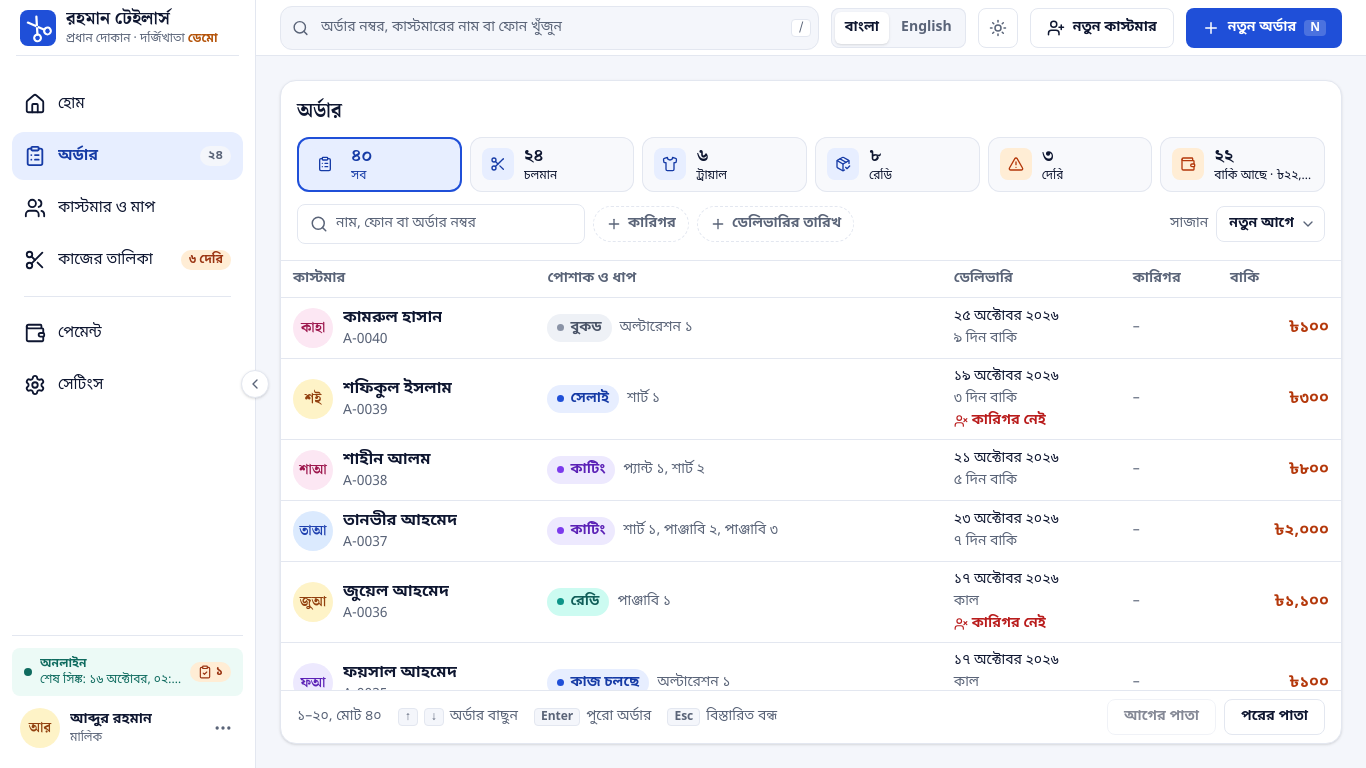
Scenario: Orders list › shows 20 orders a page, newest first, with paging
The width and height of the screenshot is (1366, 768).
Expected: the text "১–২০, মোট ৪০" is shown, [297,707,382,727]
Click the button "পরের পাতা" at point(1274, 717), box [1224,699,1325,735]
(page scrolled)
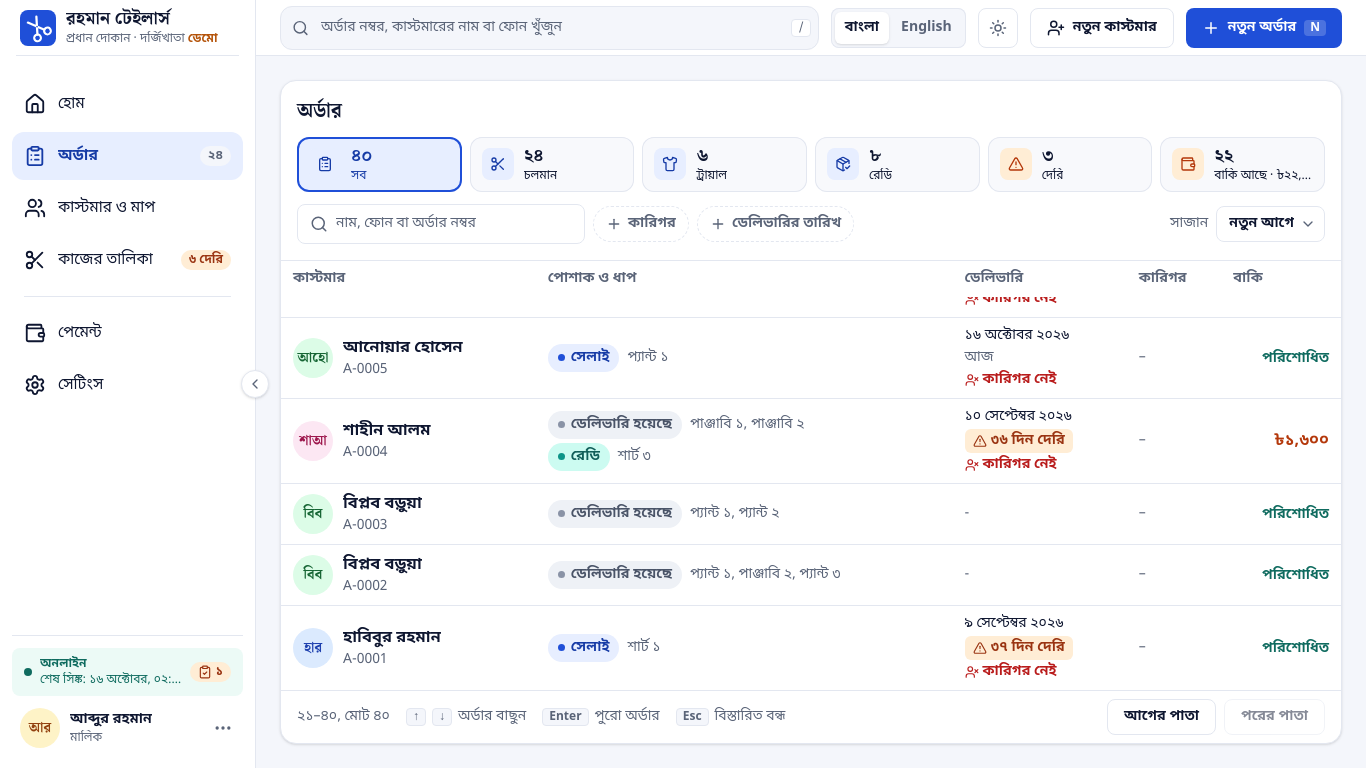
Expected: the text "২১–৪০, মোট ৪০" is shown, [297,707,390,727]
Expected: the text "A-0001" is shown, [343,650,388,668]
